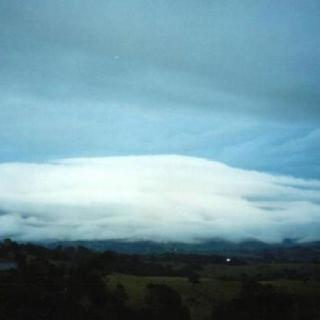Stratus: (0, 152, 320, 248)
